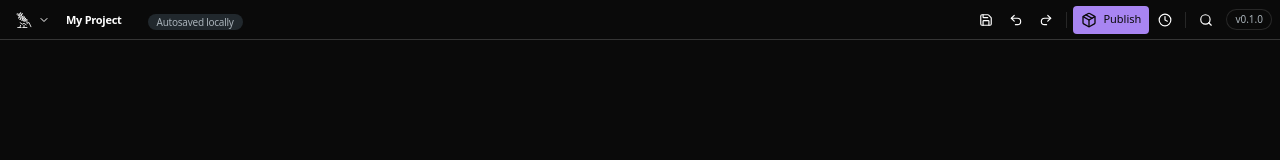
Test: Navbar inline rename (characterization) › Enter commits via renameIconSet — workspace.iconSets.set1.meta.name updates
Click the button "My Project".
click(102, 20)  # box [62,10,142,30]
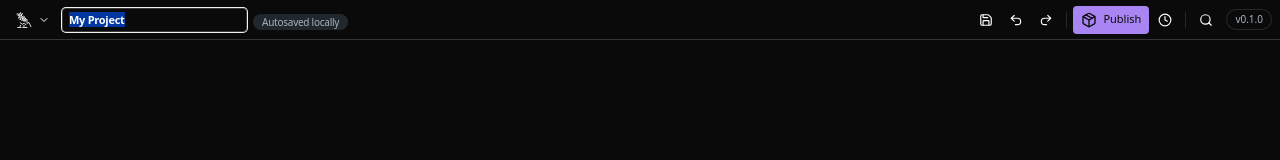
Replace the text in the field with "Renamed Project" at (154, 20), box [62,8,247,32]
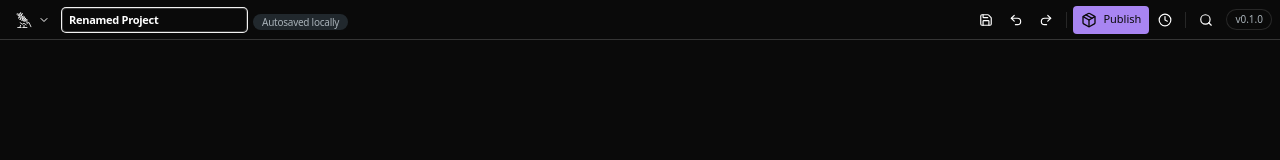
Press Enter in the field, box [62,8,247,32]
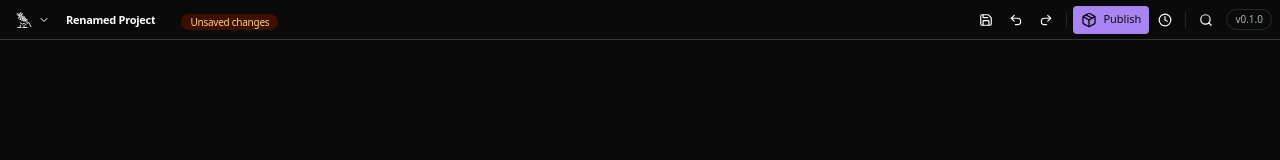
Expected: the text "Renamed Project" is shown, [66,12,155,28]
